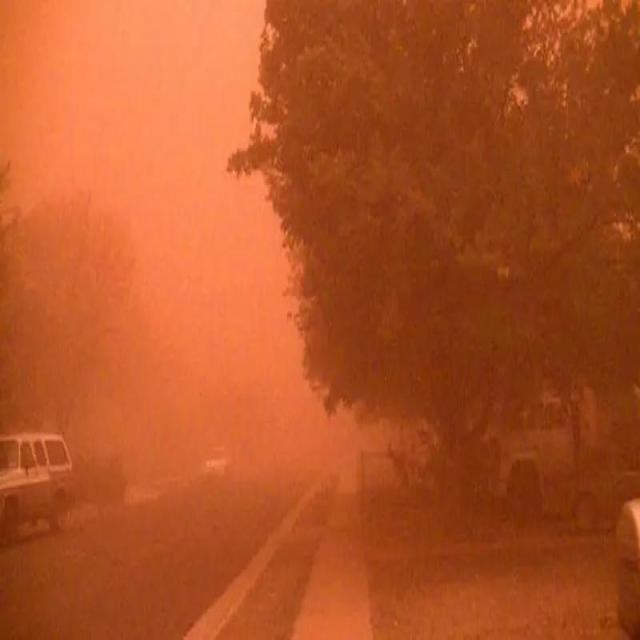Car: (0, 430, 76, 546), (569, 468, 640, 534)
Truck: (490, 388, 640, 526)
